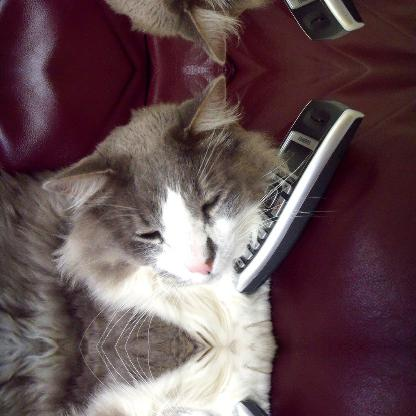Cat: (0, 71, 341, 345), (0, 347, 341, 415), (0, 0, 341, 67)
